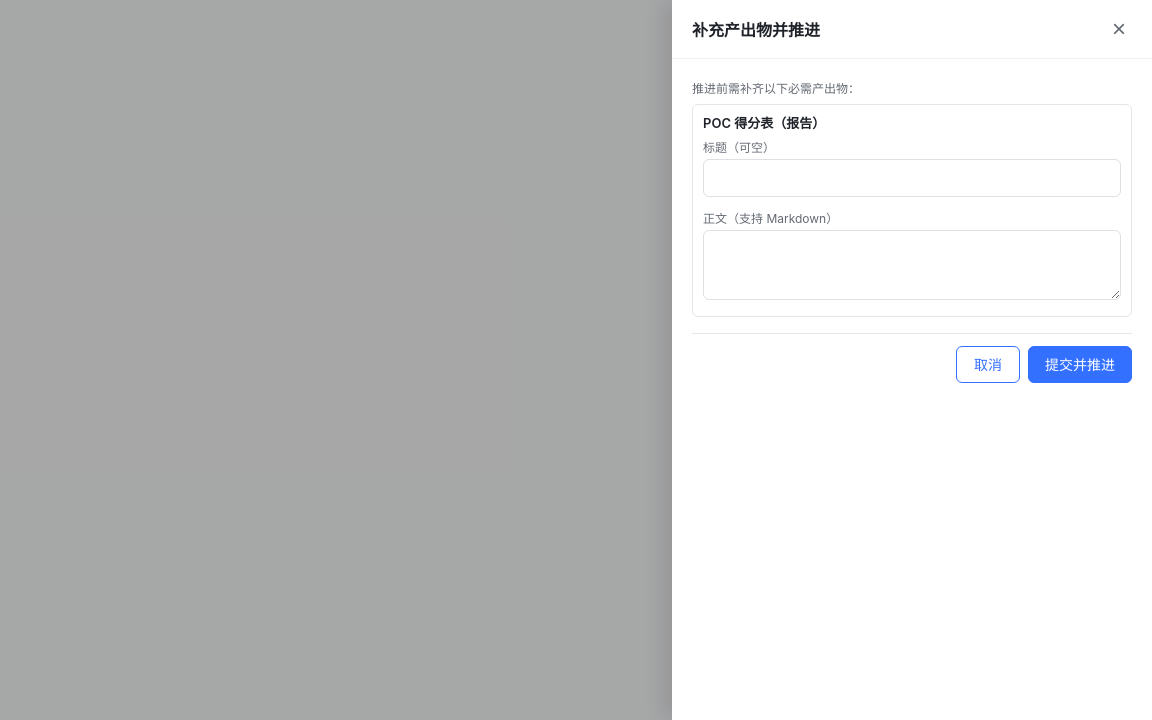
Test case: ArtifactSupplementDrawer › blocks submit when a required report body is empty
expect the element with test id "presale-supp-POC_SCORE" is shown: met, box [692, 104, 1132, 317]
Click the button with test id "presale-supp-save".
click(1080, 364)  # box [1028, 346, 1132, 383]
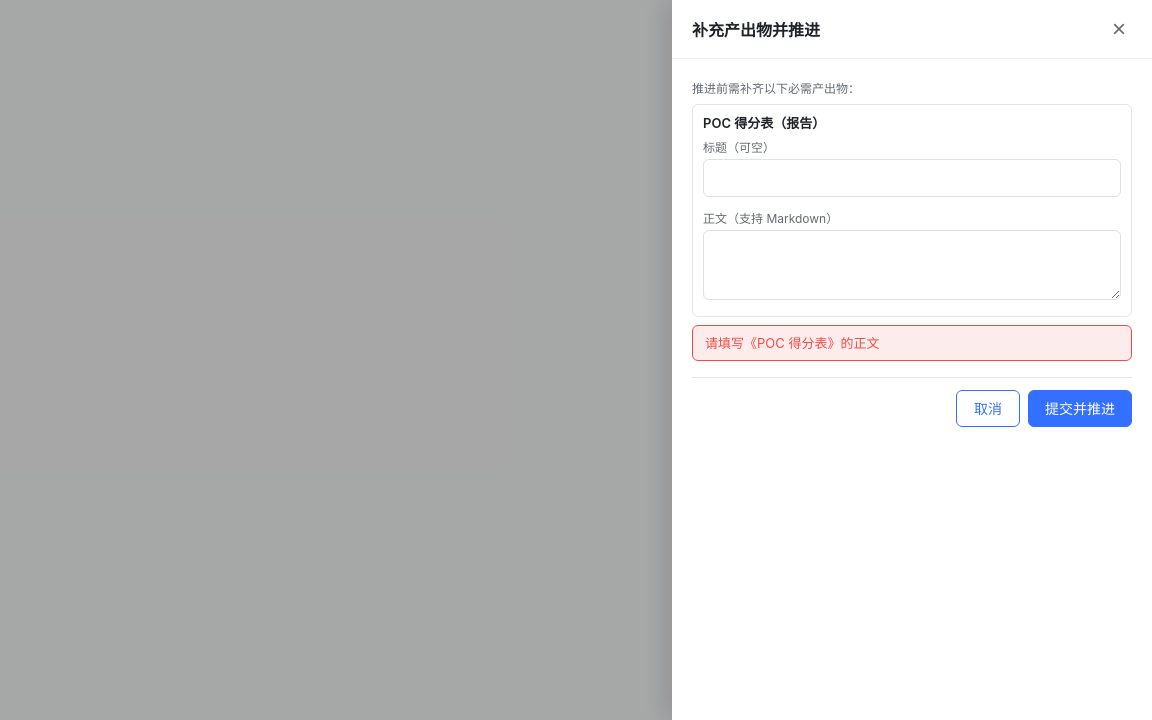
expect the text with test id "presale-supp-error" shows "POC 得分表": met, box [705, 335, 879, 351]
